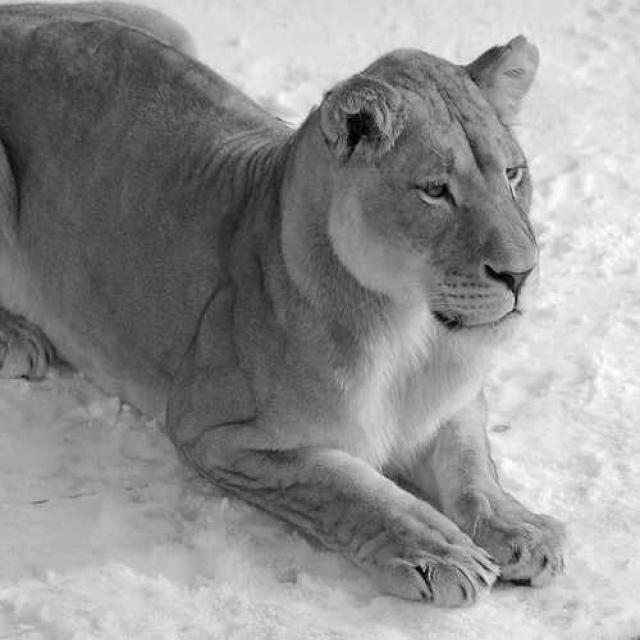Lion: (172, 33, 640, 608)
